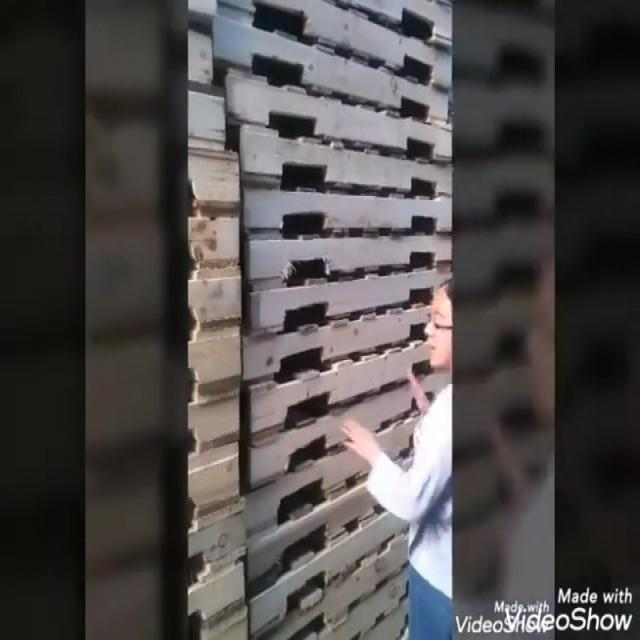Palette: (227, 0, 453, 640), (186, 0, 253, 640)
